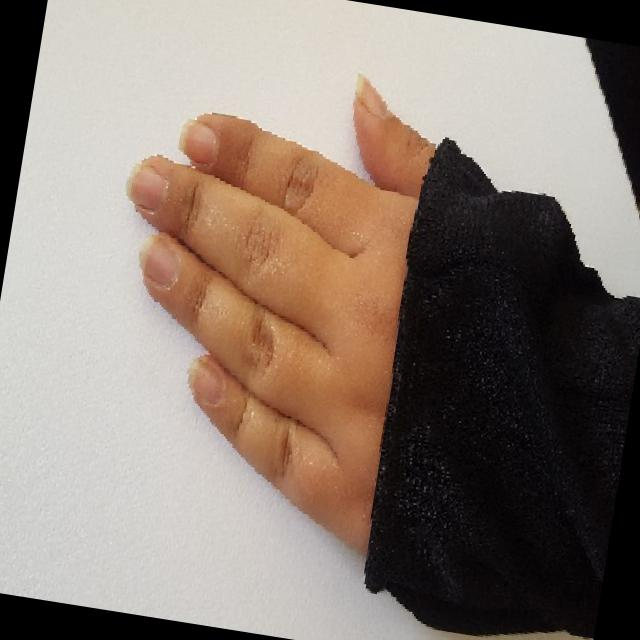Nail: (138, 236, 179, 288), (175, 121, 220, 167), (125, 165, 168, 212), (186, 360, 222, 404), (354, 74, 386, 113)
